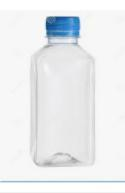bottle: (25, 12, 102, 170)
